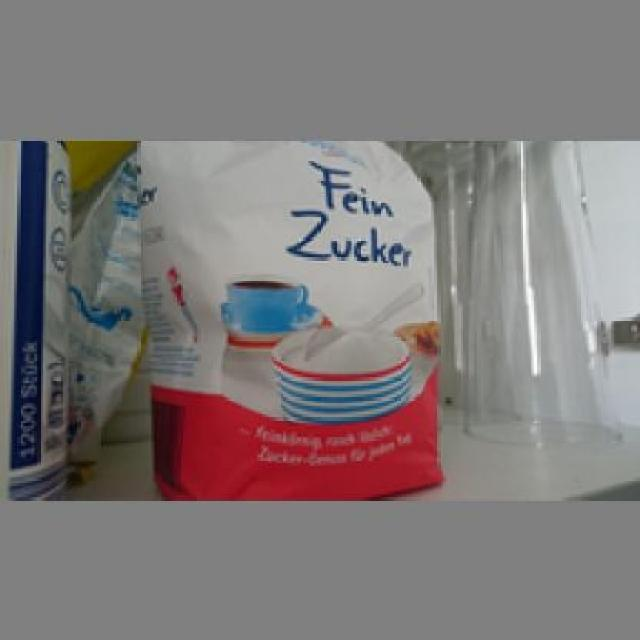Sugar: (131, 140, 440, 494)
